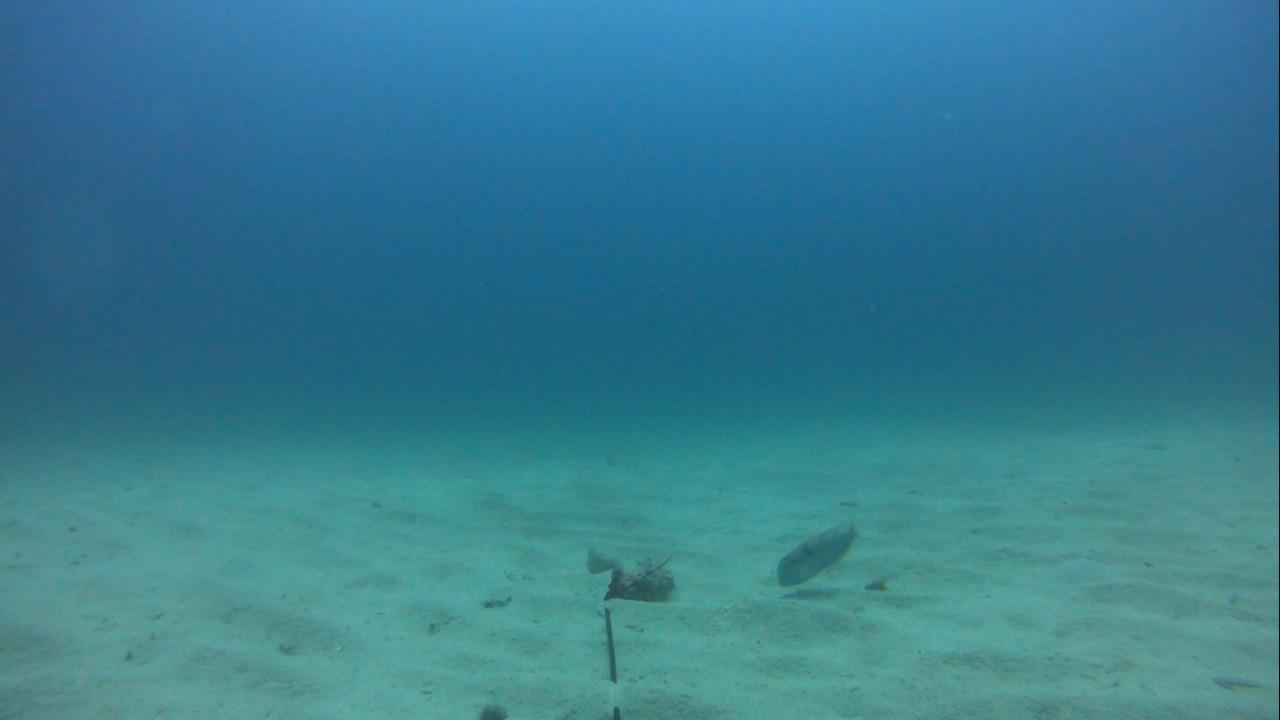raor: (772, 519, 860, 588), (560, 532, 630, 582)
